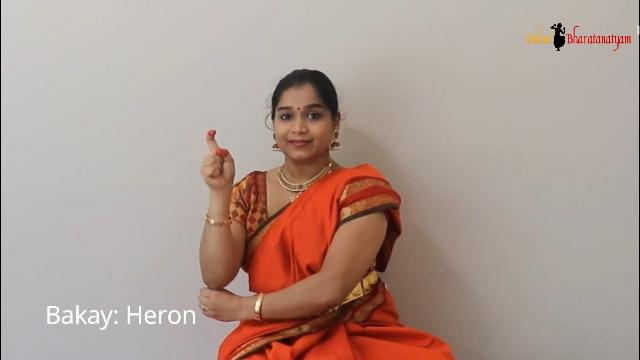tamrachud: (170, 106, 252, 200)
